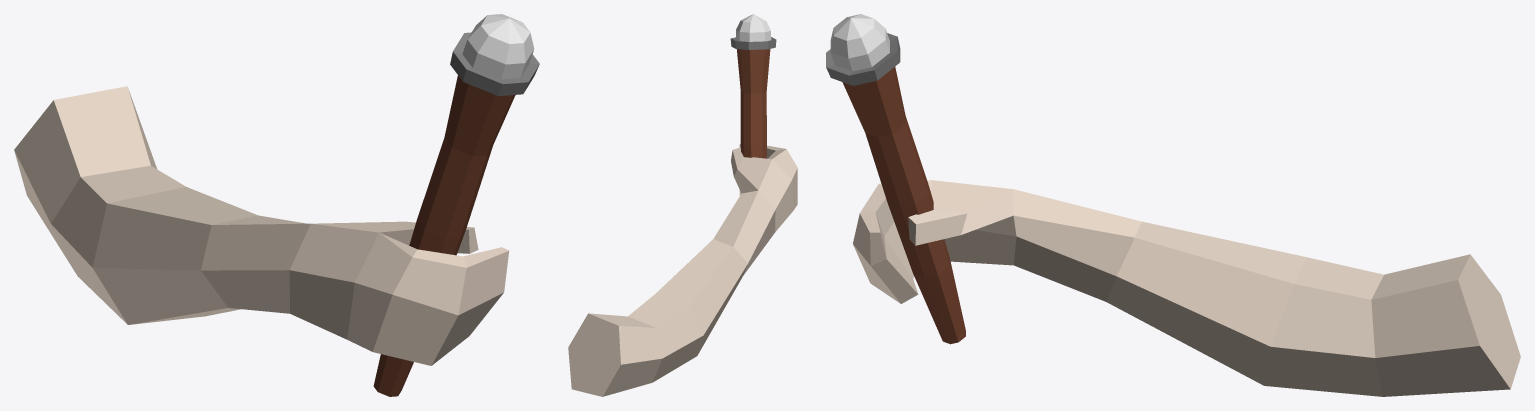
File: FireTorch.fbx
3 renders of one model, left to right at view 1: azimuth 30°, elevation 25°; view 2: azimuth 150°, elevation 25°; view 3: azimuth 270°, elevation 25°, orthographic. The views are drawn at different scales.
Visible parts, largest first — view 1: Hand, HandTorch; view 2: Hand, HandTorch; view 3: Hand, HandTorch.
Boxes of the visible parts, left/top/right/bottom form: Hand: left=14, top=86, right=509, bottom=365; HandTorch: left=373, top=14, right=539, bottom=396; Hand: left=568, top=143, right=797, bottom=396; HandTorch: left=730, top=14, right=776, bottom=158; Hand: left=853, top=180, right=1520, bottom=396; HandTorch: left=826, top=14, right=965, bottom=344.
Size of the model in its own units: 13.62 by 31.83 by 49.83.
